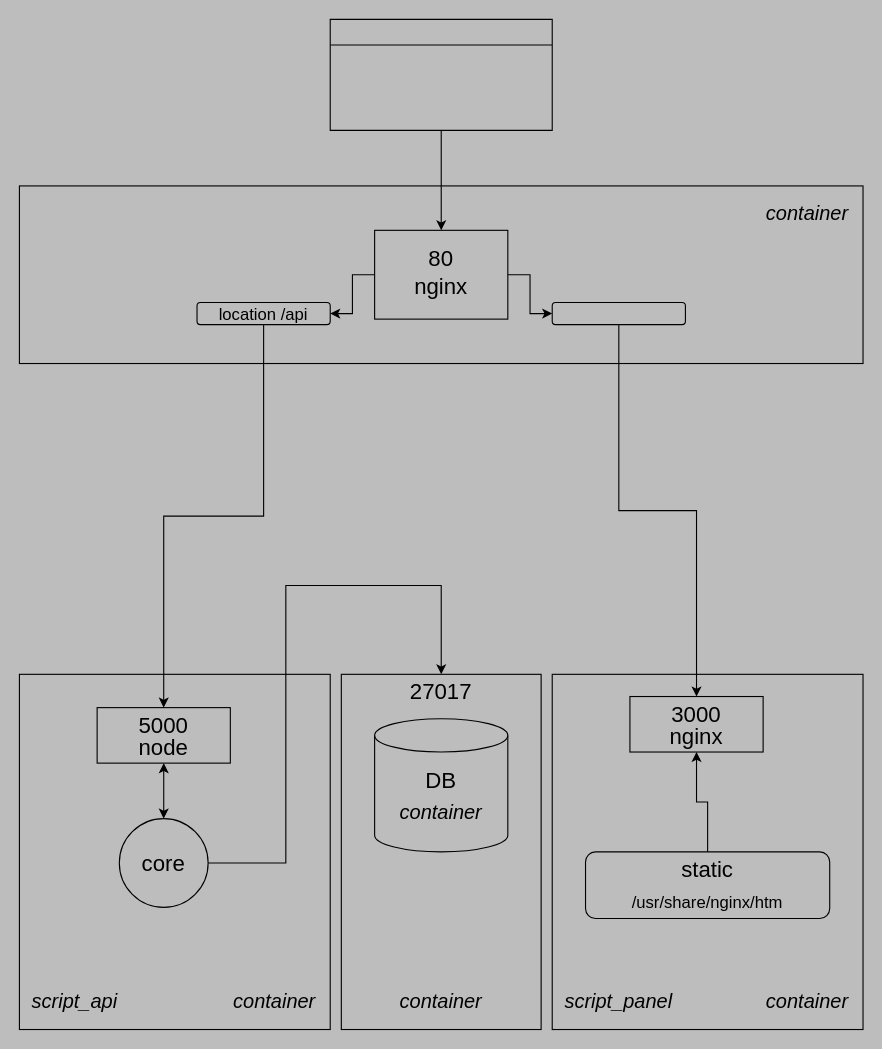
This 882x1049 diagram has some shape labels left out. The shapes that lost their labels are listed below. From the top down, each one's centre as x and y in pixels, then its label:
At point 440,74: "Client".
At point 618,313: "location /".
